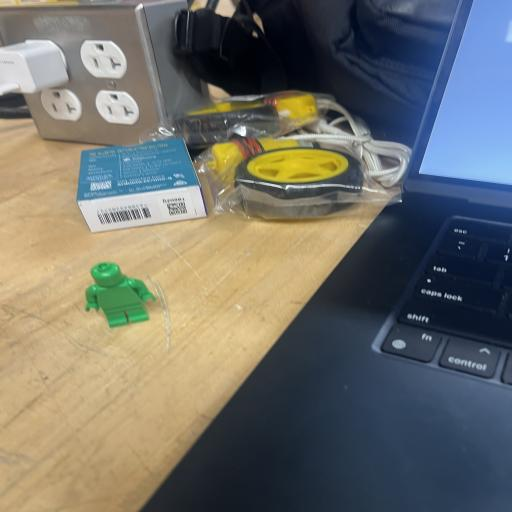green-lego-minifigure-detector: (85, 262, 155, 327)
